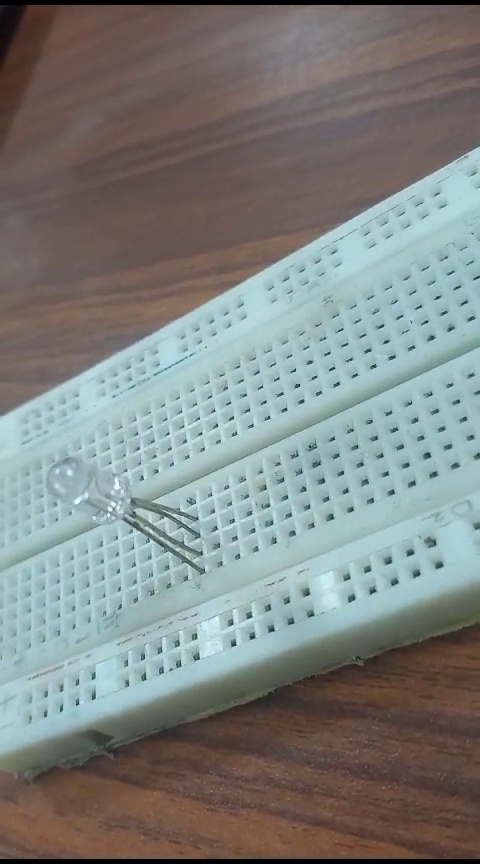LED: (34, 451, 199, 572)
